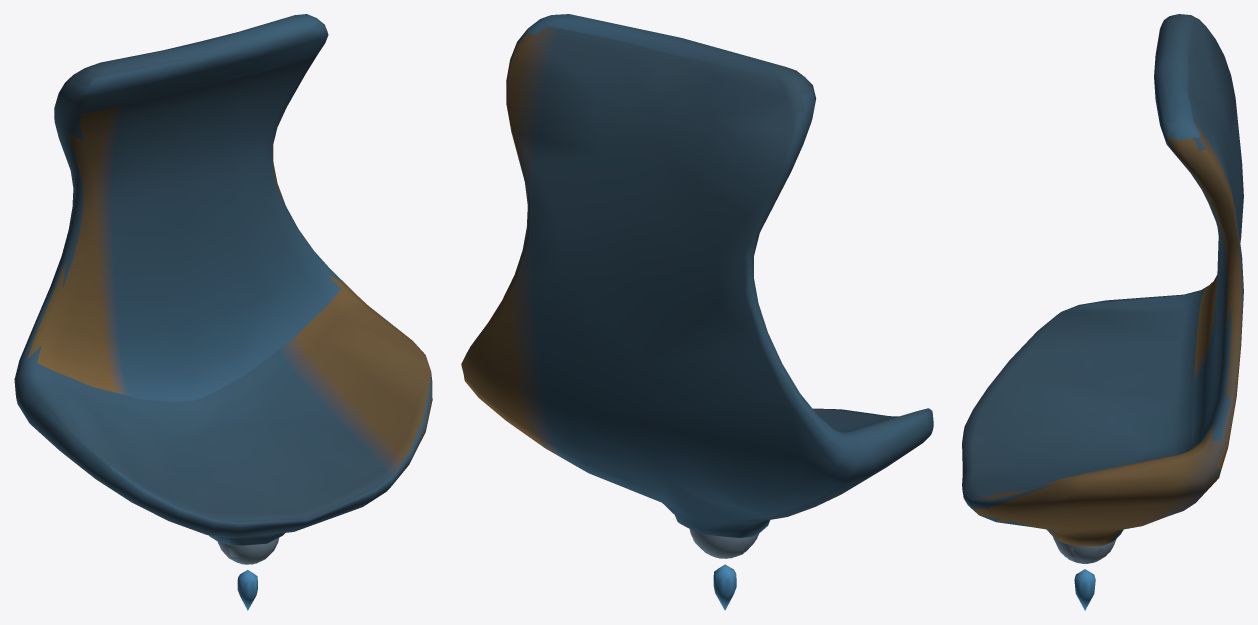
File: ScifiSeat01.fbx
3 views of the same model, side by side, from view 1: azimuth 30°, elevation 25°; view 2: azimuth 150°, elevation 25°; view 3: azimuth 270°, elevation 25° (orthographic). The views are drawn at different scales.
Visible parts, largest first — view 1: ScifiChair, ScifiChair.001; view 2: ScifiChair, ScifiChair.001; view 3: ScifiChair, ScifiChair.001.
Boxes of the visible parts, bbox=[...] form: ScifiChair: bbox=[14, 14, 432, 545]; ScifiChair.001: bbox=[217, 538, 278, 610]; ScifiChair: bbox=[461, 14, 933, 538]; ScifiChair.001: bbox=[689, 528, 759, 610]; ScifiChair: bbox=[962, 14, 1243, 546]; ScifiChair.001: bbox=[1053, 537, 1116, 610].
Size of the model in its own units: 191 by 272 by 127.
